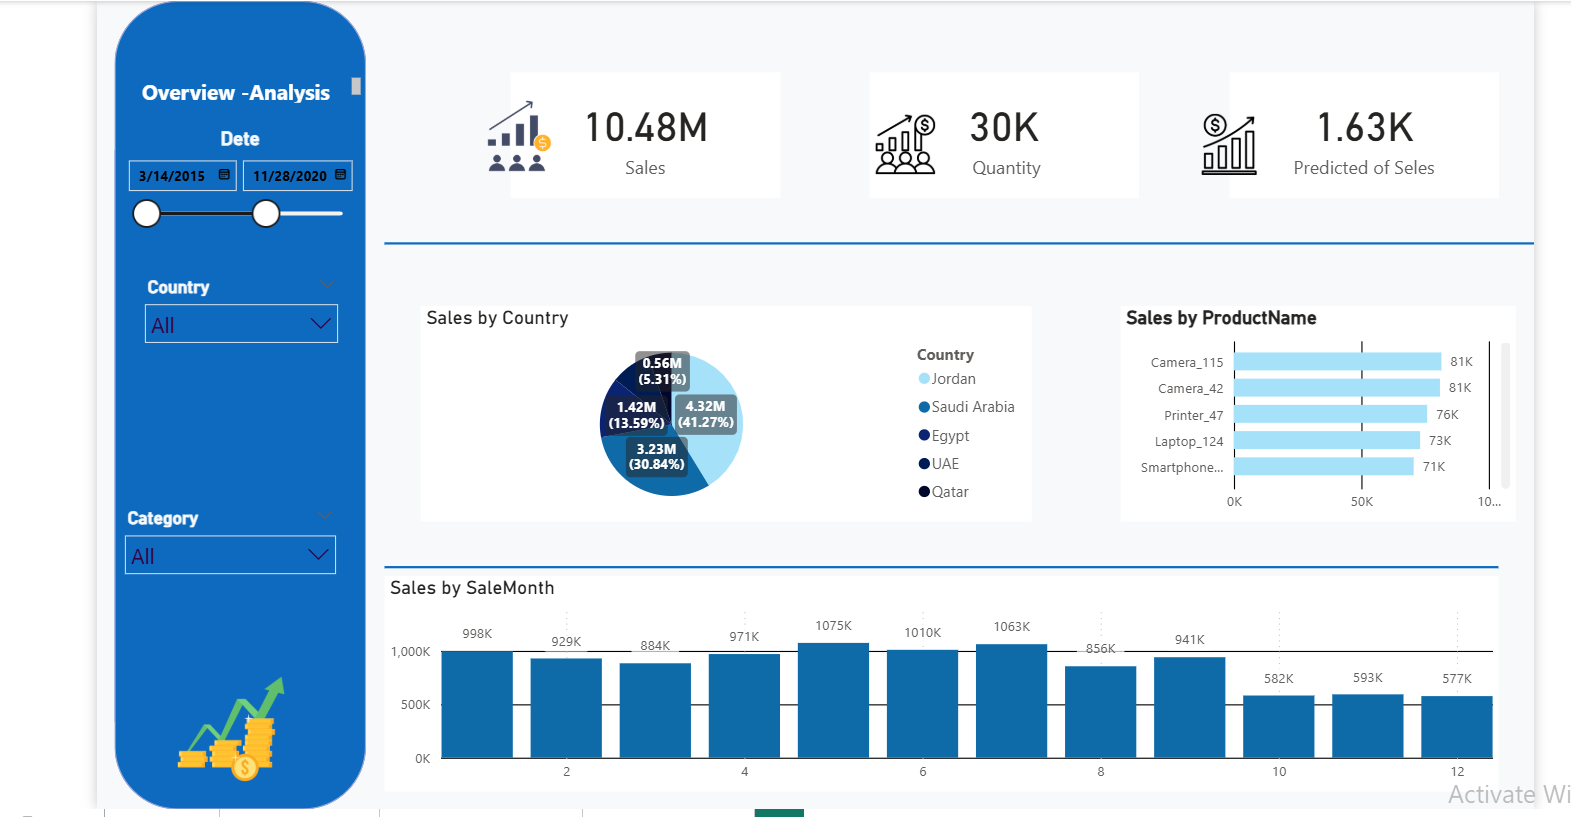

The dashboard page shown, as its layout file describes it:
{"tool":"powerbi","page":{"name":"Overview","canvas":[1280,720],"ordinal":0},"visuals":[{"type":"shape","box":[16,0,224,720],"z":0},{"type":"card","fields":{"Values":["sales_star.Total Sales"]},"box":[368,64,240,112],"z":1000},{"type":"card","fields":{"Values":["sales_star.Total Quantity"]},"box":[688,64,240,112],"z":2000},{"type":"card","fields":{"Values":["sales_star.Predicted Total Seles"]},"box":[1008,64,240,112],"z":3000},{"type":"shape","box":[256,176,1024,80],"z":4000},{"type":"pieChart","title":" Sales by Country","fields":{"Y":["sales_star.Total Sales"],"Category":["sales_star.Country"]},"box":[288,272,544,192],"z":5000},{"type":"barChart","title":"Sales by ProductName","fields":{"Category":["sales_star.ProductName"],"Y":["sales_star.Total Sales"]},"box":[912,272,352,192],"z":6000},{"type":"shape","box":[256,464,992,80],"z":7000},{"type":"lineStackedColumnComboChart","title":"Sales by SaleMonth","fields":{"Category":["sales_star.SaleMonth"],"Y":["sales_star.Total Sales"]},"box":[256,512,992,192],"z":8000},{"type":"slicer","title":"Dete","fields":{"Values":["sales_star.HireDate"]},"box":[16,112,224,96],"z":9000},{"type":"slicer","title":"country","fields":{"Values":["sales_star.Country"]},"box":[32,240,192,176],"z":10000},{"type":"slicer","title":"category","fields":{"Values":["sales_star.Category"]},"box":[14.5,446.1,208,192],"z":11000},{"type":"image","box":[688,96,64,64],"z":12000},{"type":"image","box":[976,96,64,64],"z":13000},{"type":"image","box":[336,80,80,80],"z":14000},{"type":"textbox","box":[16,64,224,32],"z":15000},{"type":"image","box":[64,592,112,112],"z":16000}]}

Visuals, with their boxes on the page's 1280x720 design canvas (x1, y1, x2, y2). These are canvas units, not pixel positions in the 1571x817 screenshot, which may show the page scaled, cropped or inside an application window:
shape: Rect(16, 0, 240, 720)
card - sales_star.Total Sales: Rect(368, 64, 608, 176)
card - sales_star.Total Quantity: Rect(688, 64, 928, 176)
card - sales_star.Predicted Total Seles: Rect(1008, 64, 1248, 176)
shape: Rect(256, 176, 1280, 256)
" Sales by Country" pieChart: Rect(288, 272, 832, 464)
"Sales by ProductName" barChart: Rect(912, 272, 1264, 464)
shape: Rect(256, 464, 1248, 544)
"Sales by SaleMonth" lineStackedColumnComboChart: Rect(256, 512, 1248, 704)
"Dete" slicer: Rect(16, 112, 240, 208)
"country" slicer: Rect(32, 240, 224, 416)
"category" slicer: Rect(14, 446, 222, 638)
image: Rect(688, 96, 752, 160)
image: Rect(976, 96, 1040, 160)
image: Rect(336, 80, 416, 160)
textbox: Rect(16, 64, 240, 96)
image: Rect(64, 592, 176, 704)
